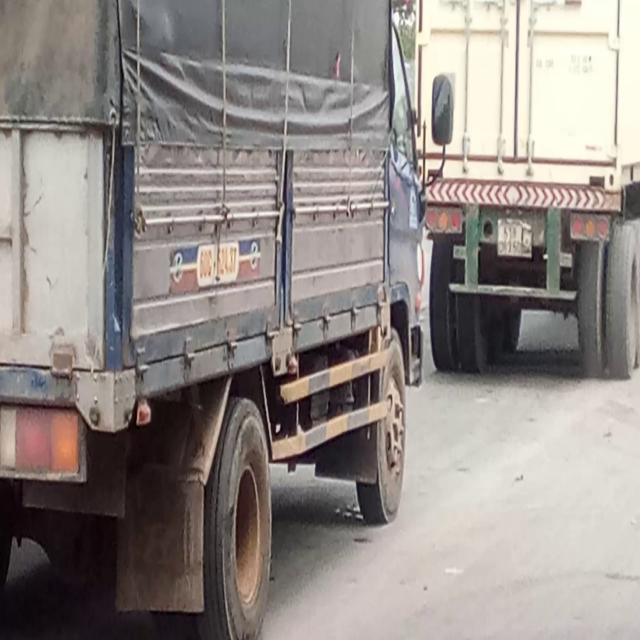bien_trang: (495, 217, 526, 262)
